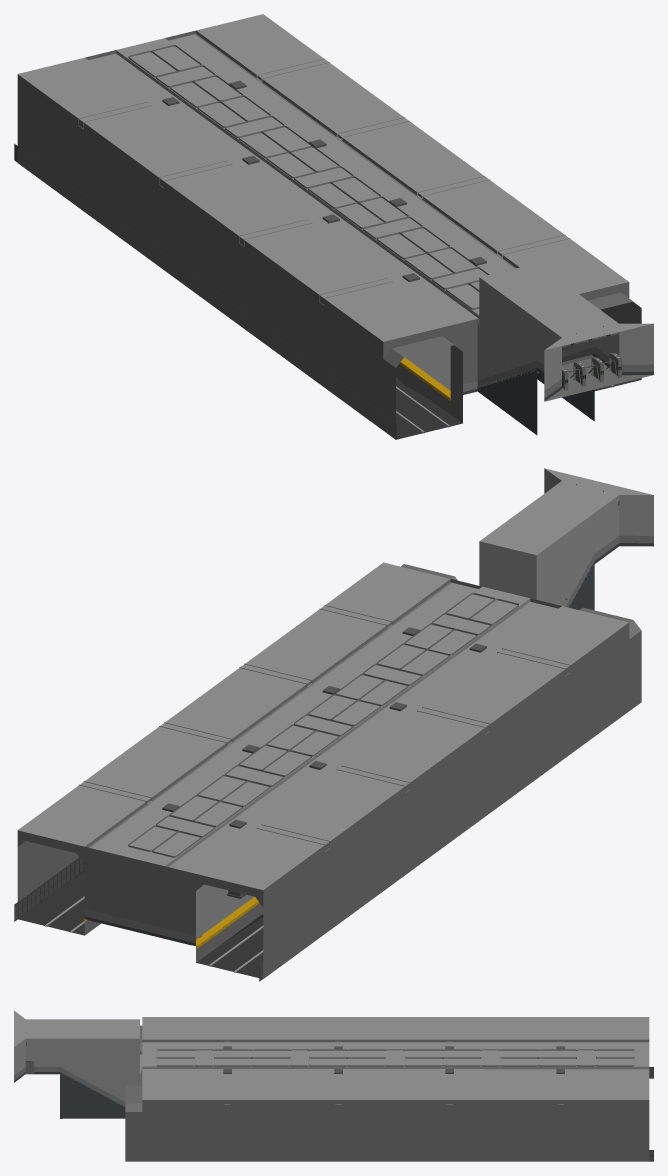
Rendered from SM_Floor_Metro_06.fbx.
3 views of the same model, one above another, from view 1: azimuth 30°, elevation 25°; view 2: azimuth 150°, elevation 25°; view 3: azimuth 270°, elevation 25° (orthographic). The views are drawn at different scales.
Visible parts, largest first — view 1: SM_Floor_Metro_06; view 2: SM_Floor_Metro_06; view 3: SM_Floor_Metro_06.
Boxes of the visible parts, x1,y1,x2,y2 form: SM_Floor_Metro_06: (14,14,653,439); SM_Floor_Metro_06: (14,468,653,981); SM_Floor_Metro_06: (14,1010,653,1161).
Bounding box in the file's own units: 15.04 × 7.77 × 48.86.
